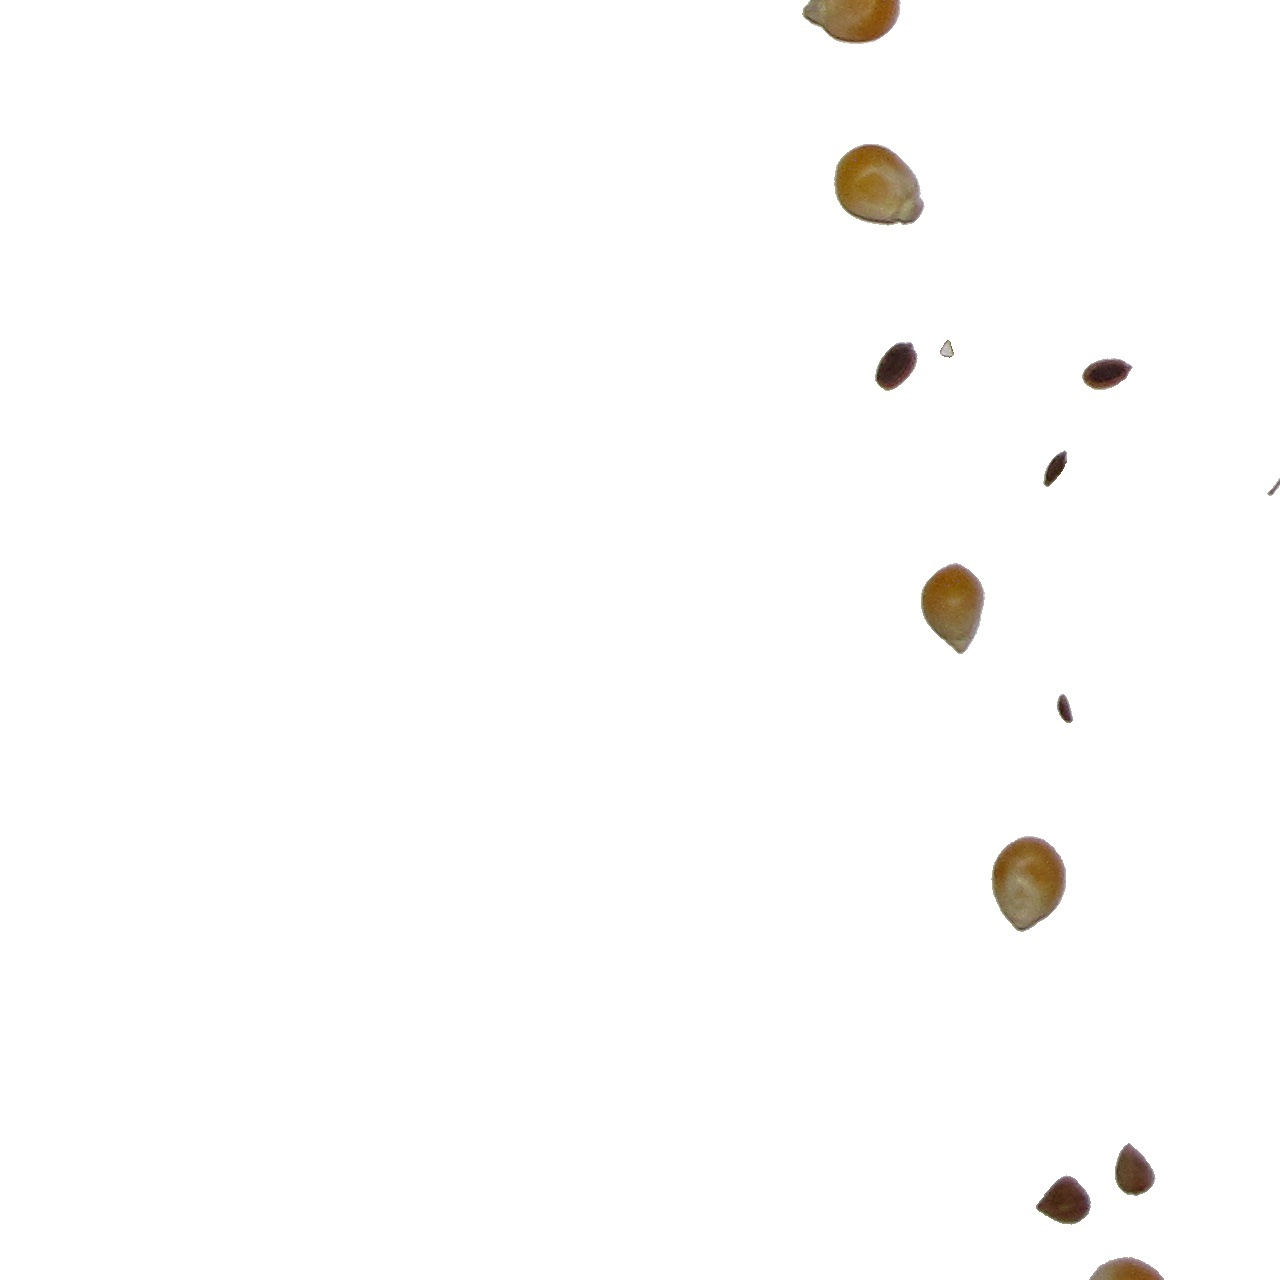buckwheat: (1035, 1175, 1092, 1226), (1114, 1142, 1157, 1197), (874, 341, 919, 392), (1081, 358, 1133, 392), (1046, 451, 1073, 501), (1266, 467, 1280, 497), (939, 339, 955, 359)
mais: (833, 143, 926, 227), (990, 835, 1067, 933), (920, 561, 986, 655), (804, 1, 905, 47), (1077, 1257, 1169, 1280)
other: (1056, 693, 1074, 724)
